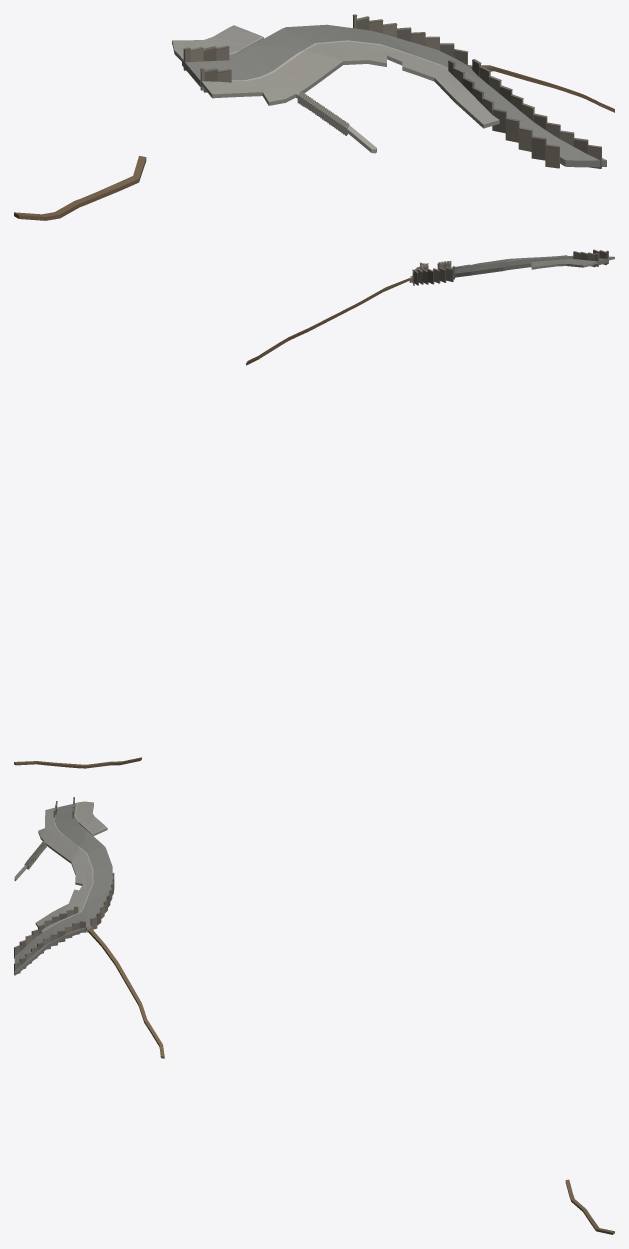
3 views of the same model, one above another, from view 1: azimuth 30°, elevation 25°; view 2: azimuth 150°, elevation 25°; view 3: azimuth 270°, elevation 25° (orthographic). The views are drawn at different scales.
Size of the model in its own units: 97.98 by 111 by 190.
